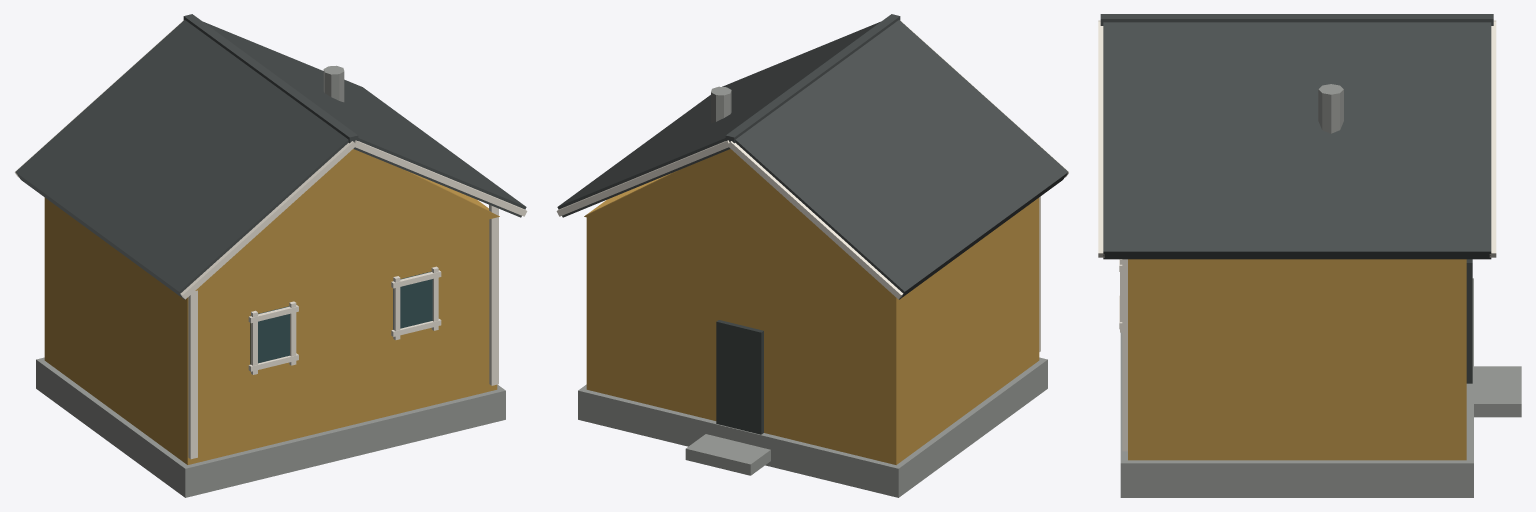
The model's file is norway-house-ochre-white_lod0.glb.
3 views of the same model, side by side, from view 1: azimuth 30°, elevation 25°; view 2: azimuth 150°, elevation 25°; view 3: azimuth 270°, elevation 25° (orthographic). The views are drawn at different scales.
Visible parts, largest first — view 1: RF_House_Walls, RF_House_RoofA, RF_House_Gables, RF_House_Foundation, RF_House_RoofB, RF_House_RidgeCap, RF_House_VergeLeftFront, RF_House_Corner.001, RF_House_Corner, RF_House_WindowRecess.001, RF_House_WindowRecess, RF_House_VergeRightFront (+1 smaller); view 2: RF_House_Walls, RF_House_RoofA, RF_House_Gables, RF_House_Foundation, RF_House_RoofB, RF_House_Door, RF_House_Threshold, RF_House_RidgeCap, RF_House_VergeLeftRear, RF_House_VergeRightRear, RF_House_Chimney; view 3: RF_House_RoofB, RF_House_Walls, RF_House_Foundation, RF_House_RidgeCap, RF_House_Threshold, RF_House_VergeRightRear, RF_House_VergeRightFront, RF_House_Chimney, RF_House_Corner.001, RF_House_Door.
Part boxes in pixels (<box>): RF_House_Walls: <box>44,173,497,464</box>; RF_House_RoofA: <box>15,20,348,299</box>; RF_House_Gables: <box>195,149,499,290</box>; RF_House_Foundation: <box>36,357,505,497</box>; RF_House_RoofB: <box>203,21,526,217</box>; RF_House_RidgeCap: <box>183,14,358,143</box>; RF_House_VergeLeftFront: <box>180,141,355,299</box>; RF_House_Corner.001: <box>489,204,498,385</box>; RF_House_Corner: <box>188,290,197,459</box>; RF_House_WindowRecess.001: <box>393,271,432,329</box>; RF_House_WindowRecess: <box>250,306,289,364</box>; RF_House_VergeRightFront: <box>354,140,527,216</box>; RF_House_Walls: <box>586,173,1039,464</box>; RF_House_RoofA: <box>735,20,1068,299</box>; RF_House_Gables: <box>584,149,888,290</box>; RF_House_Foundation: <box>578,357,1047,497</box>; RF_House_RoofB: <box>557,21,880,217</box>; RF_House_Door: <box>716,320,763,434</box>; RF_House_Threshold: <box>685,434,770,475</box>; RF_House_RidgeCap: <box>725,14,900,143</box>; RF_House_VergeLeftRear: <box>728,141,903,299</box>; RF_House_VergeRightRear: <box>556,140,729,216</box>; RF_House_Chimney: <box>711,86,731,123</box>; RF_House_RoofB: <box>1103,22,1491,259</box>; RF_House_Walls: <box>1128,259,1466,460</box>; RF_House_Foundation: <box>1120,278,1473,497</box>; RF_House_RidgeCap: <box>1100,14,1493,25</box>; RF_House_Threshold: <box>1474,366,1521,417</box>; RF_House_VergeRightRear: <box>1489,22,1496,257</box>; RF_House_VergeRightFront: <box>1098,22,1104,257</box>; RF_House_Chimney: <box>1318,84,1343,133</box>; RF_House_Corner.001: <box>1122,259,1127,451</box>; RF_House_Door: <box>1466,259,1472,383</box>.
Bounding box in the file's own units: 11.22 × 10.13 × 10.
